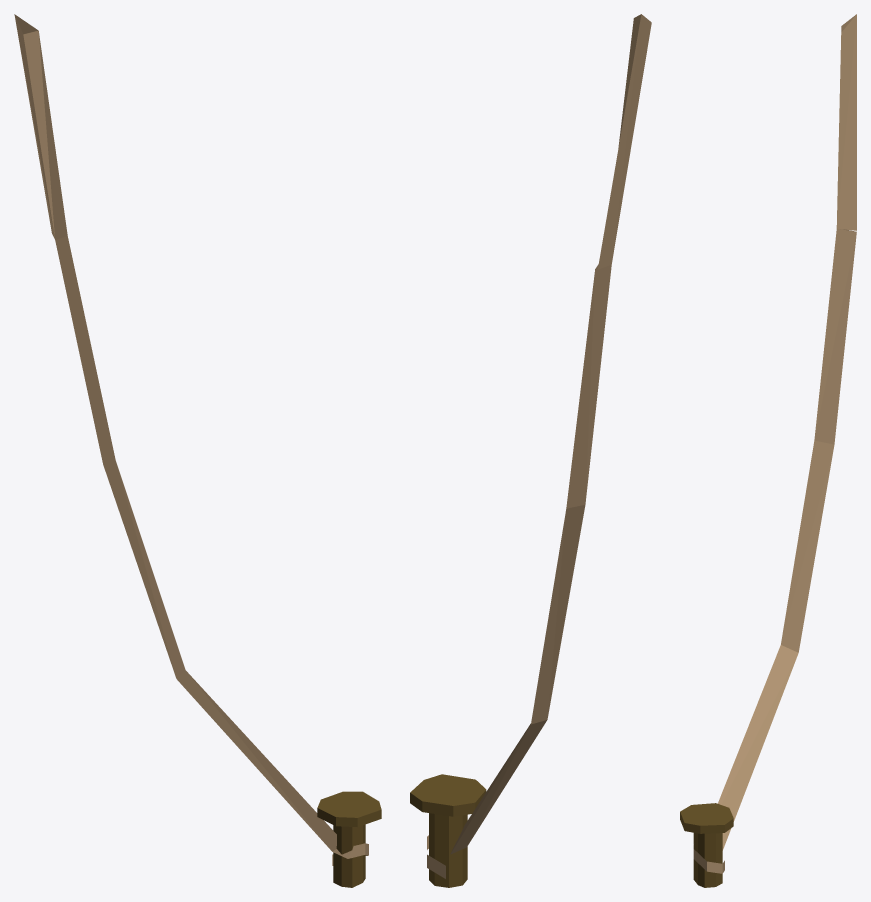
The model's file is obj_guide_rope_2_0.obj.
3 renders of one model, left to right at view 1: azimuth 30°, elevation 25°; view 2: azimuth 150°, elevation 25°; view 3: azimuth 270°, elevation 25°, orthographic. The views are drawn at different scales.
Size of the model in its own units: 0.9766 by 2.93 by 0.6172.
